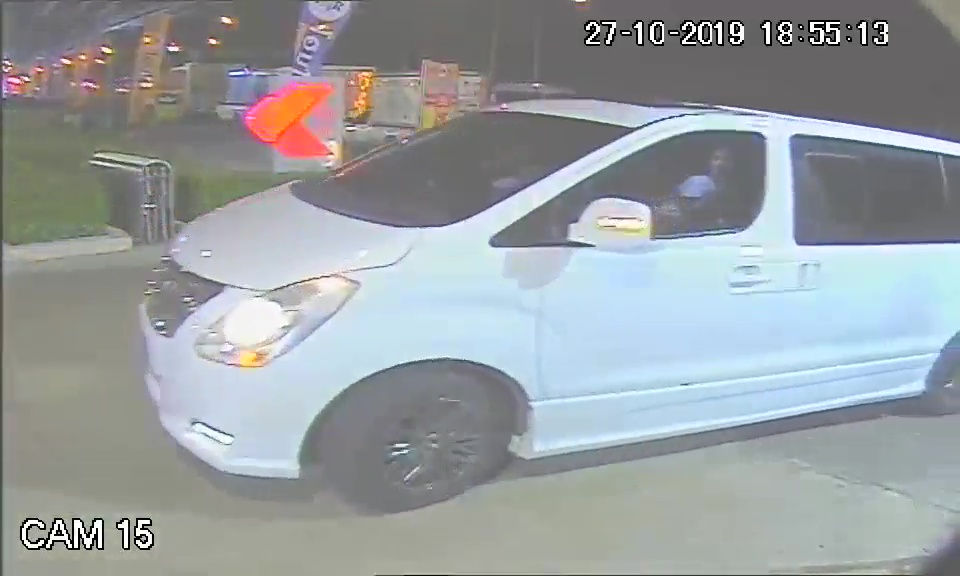van: (138, 85, 943, 509)
